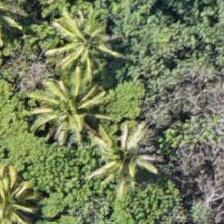coconut_tree: (33, 6, 123, 96), (22, 67, 112, 157), (79, 116, 169, 206), (0, 165, 48, 223)
